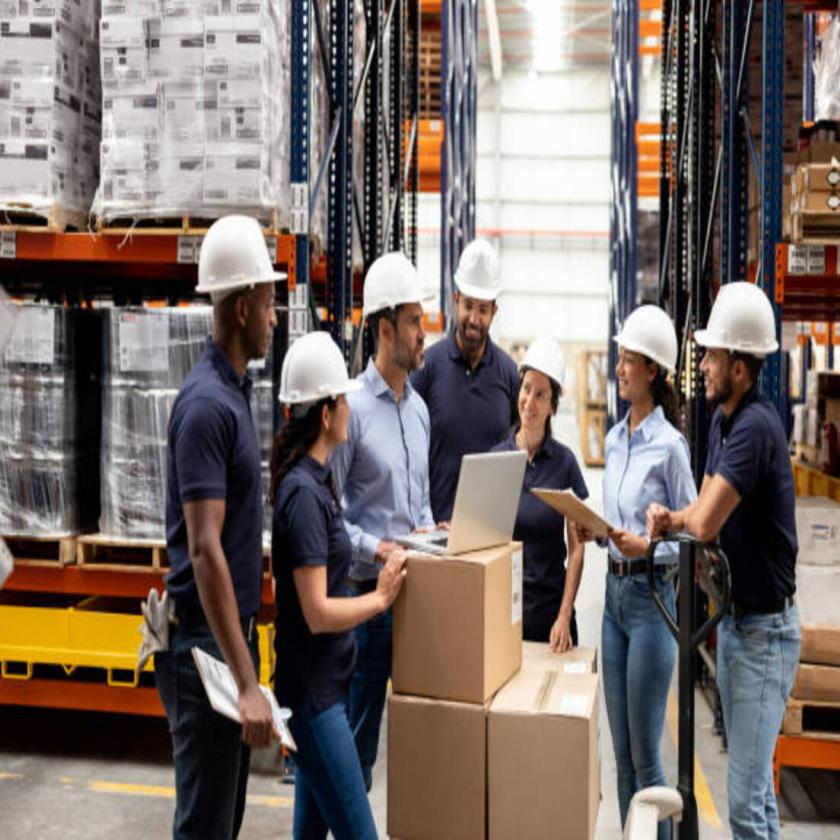Con_casco: (194, 214, 290, 387), (697, 280, 783, 416), (278, 331, 358, 476), (363, 254, 433, 388), (612, 302, 682, 425), (452, 238, 500, 363), (518, 334, 568, 448)
